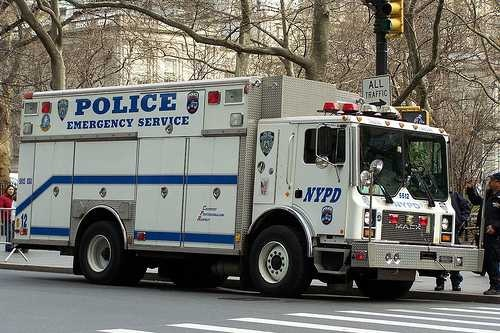Police Van: (15, 73, 485, 296)
